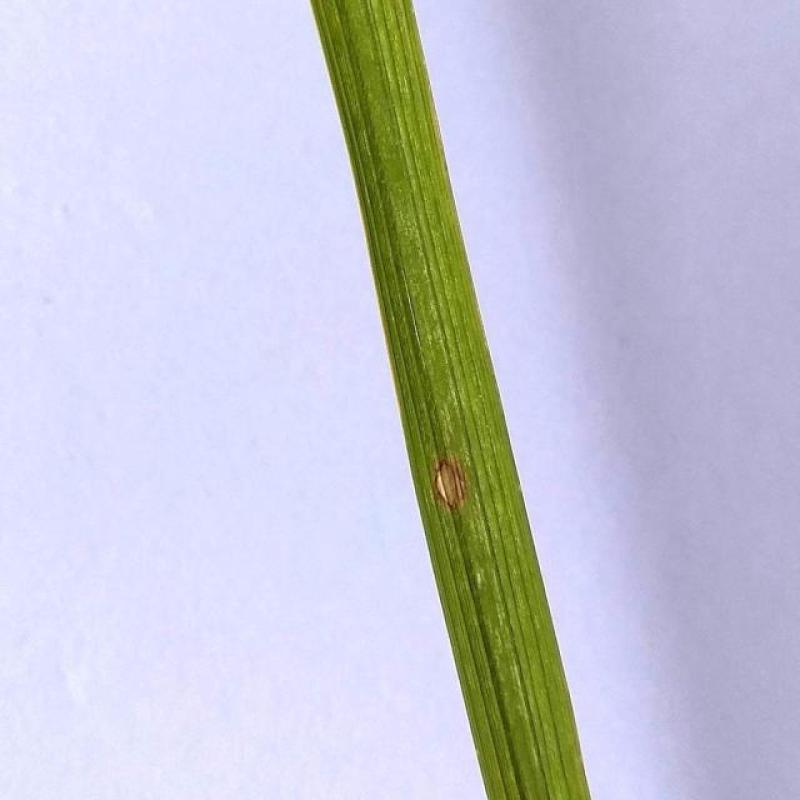Leaf_Blast: (402, 416, 508, 555)
